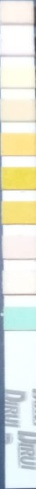color 1: (1, 6, 32, 21)
color 10: (3, 309, 36, 330)
color 2: (1, 36, 35, 55)
color 3: (1, 68, 36, 88)
color 4: (1, 101, 36, 121)
color 5: (1, 134, 36, 155)
color 6: (1, 168, 35, 189)
color 7: (1, 202, 36, 223)
color 8: (2, 239, 36, 257)
color 9: (2, 272, 36, 292)
